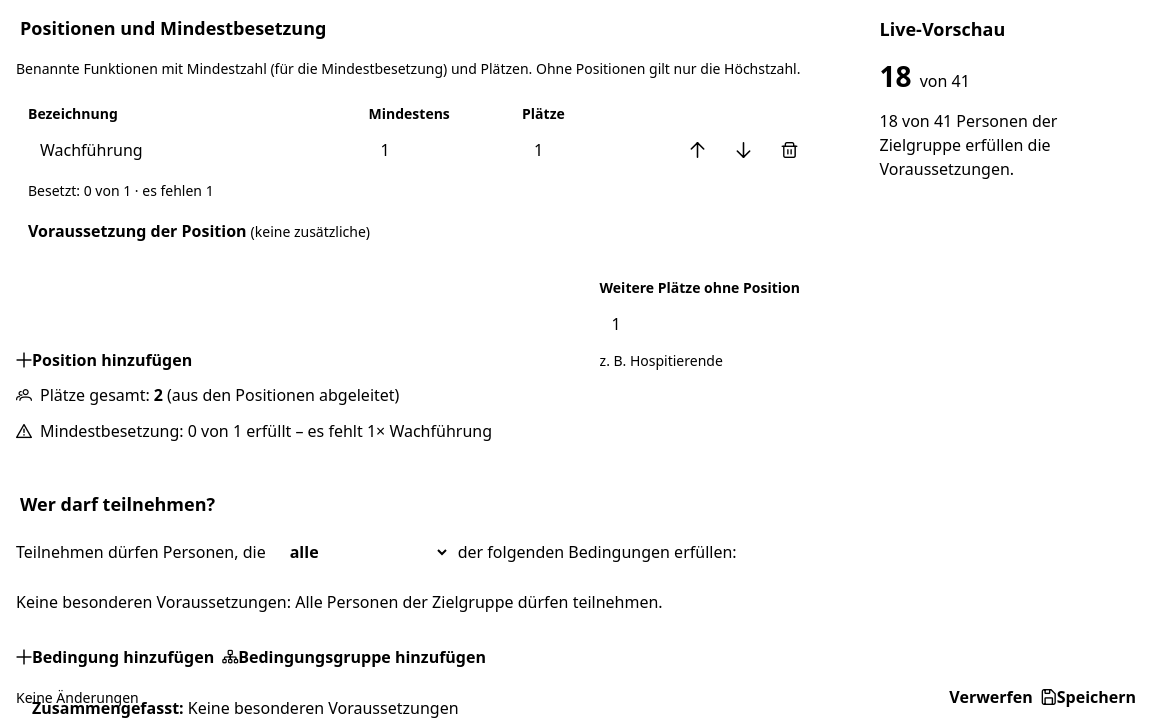
Test: ParticipationSettings › edits positions: derived and locked maximum, staffing text, buttons with names
(page scrolled)
Expected: the button named "Wachführung entfernen" is shown, [768, 128, 812, 172]
Click the button "Position hinzufügen".
click(104, 360)  # box [16, 349, 192, 371]
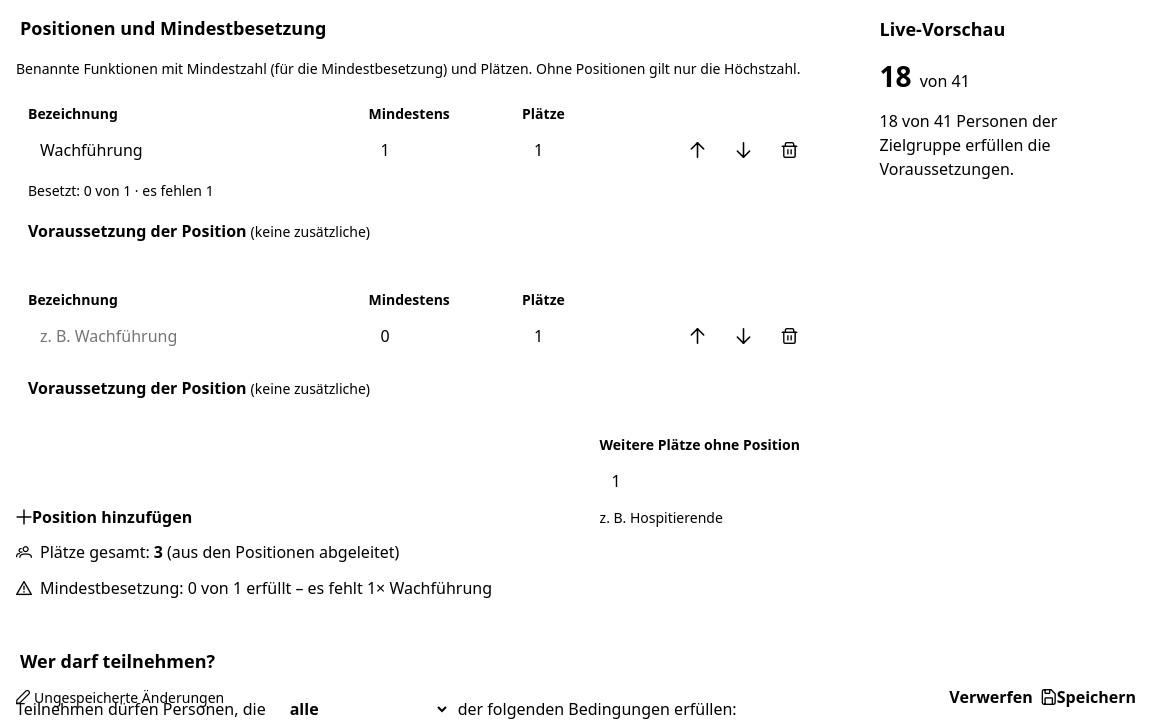
Type "Trupp" into the field with id "slot-1-label".
click(192, 336); type("Trupp")  # box [28, 314, 356, 358]
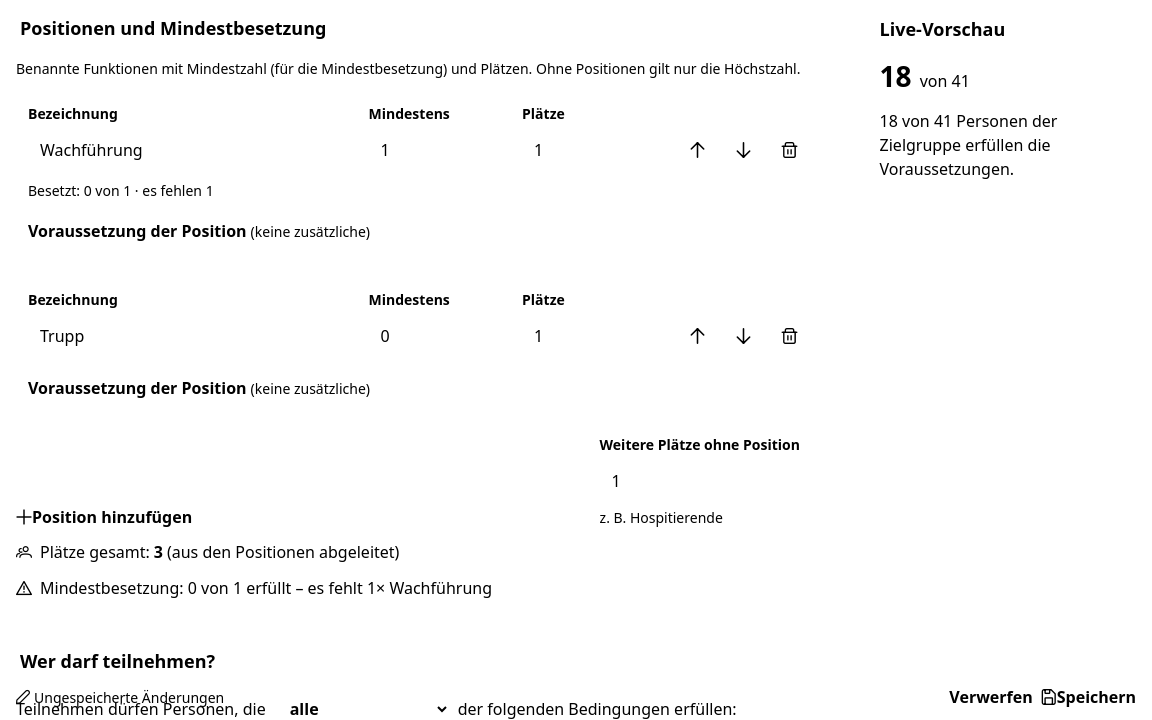
Replace the text in the number field with id "slot-1-max" with "3" at (593, 336), box [522, 314, 664, 358]
(page scrolled)
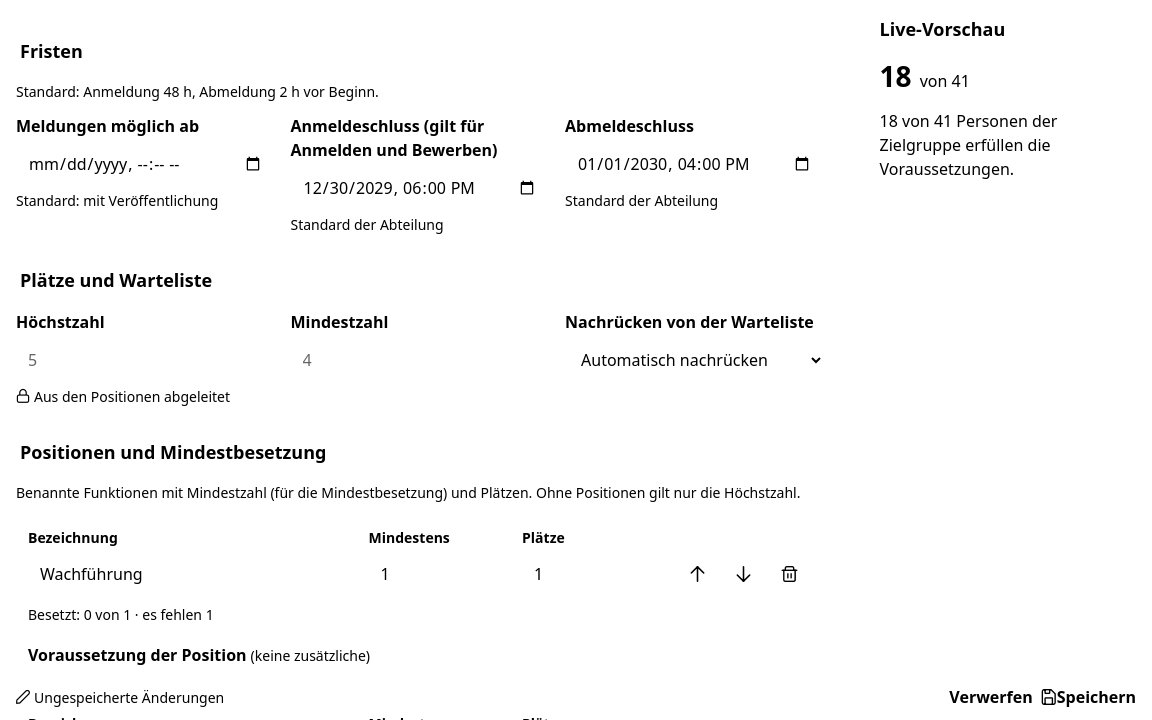
Result: the number field labelled "Höchstzahl" holds "5" at [16, 338, 274, 382]
